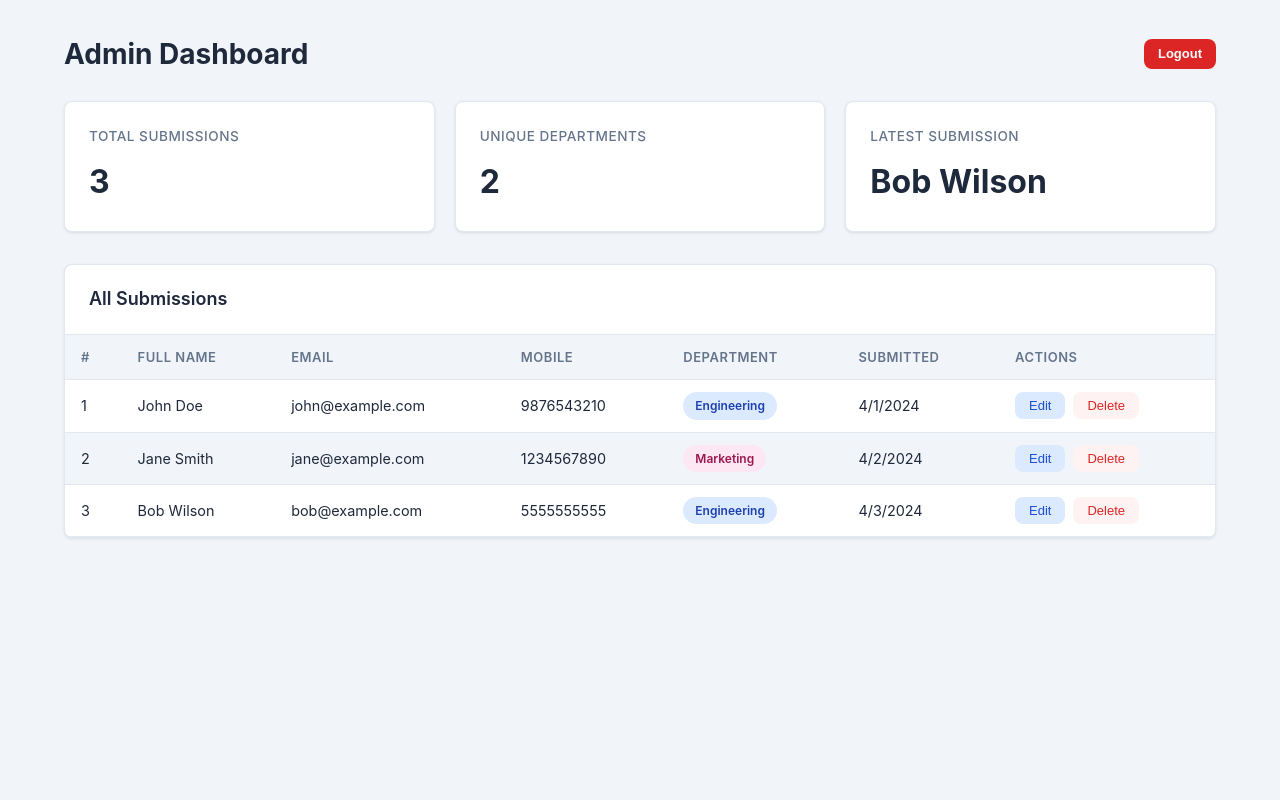
it: AdminDashboard › closing edit modal by clicking Cancel hides the modal
The width and height of the screenshot is (1280, 800).
Click the button "Edit" in the row of "John Doe" at (1040,406), box x1=1015 y1=392 x2=1065 y2=419
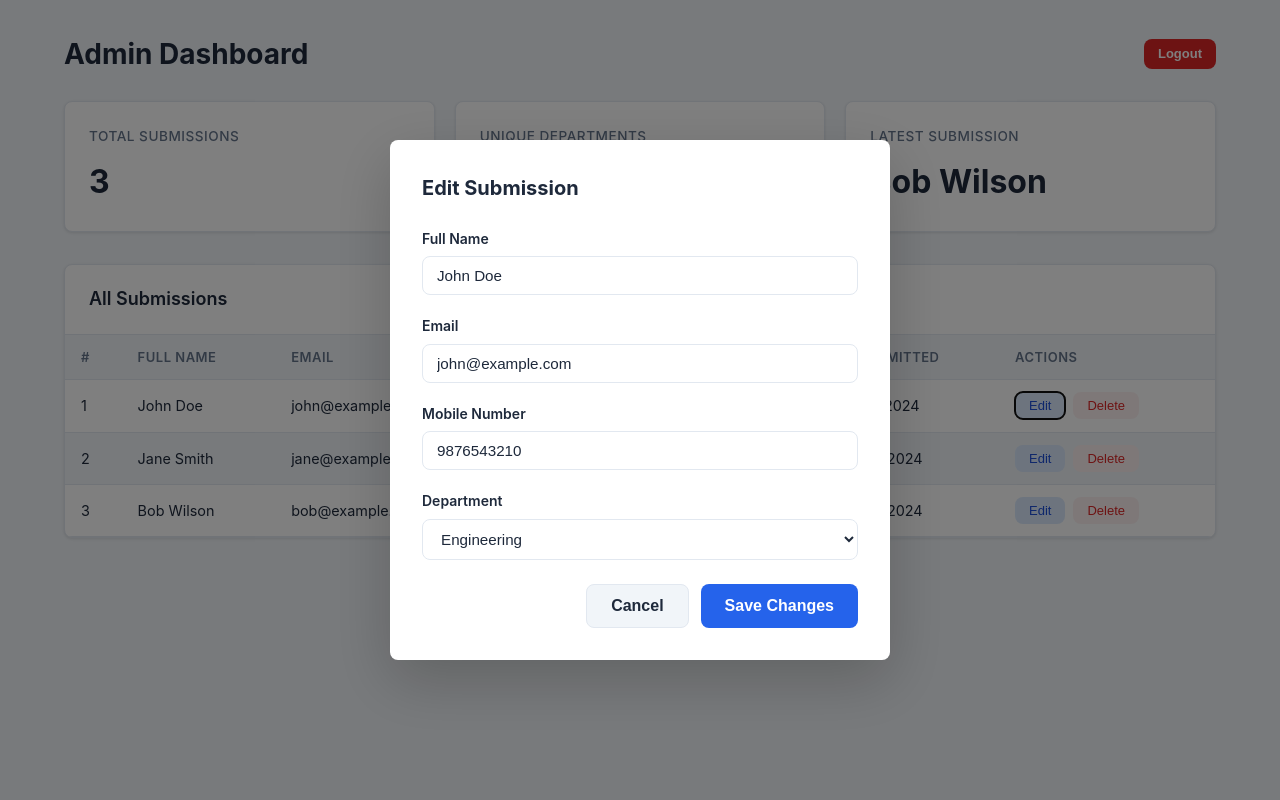
Check: the heading "Edit Submission" is shown, box x1=422 y1=176 x2=579 y2=200
Click the button "Cancel" at (637,606), box x1=586 y1=584 x2=689 y2=628
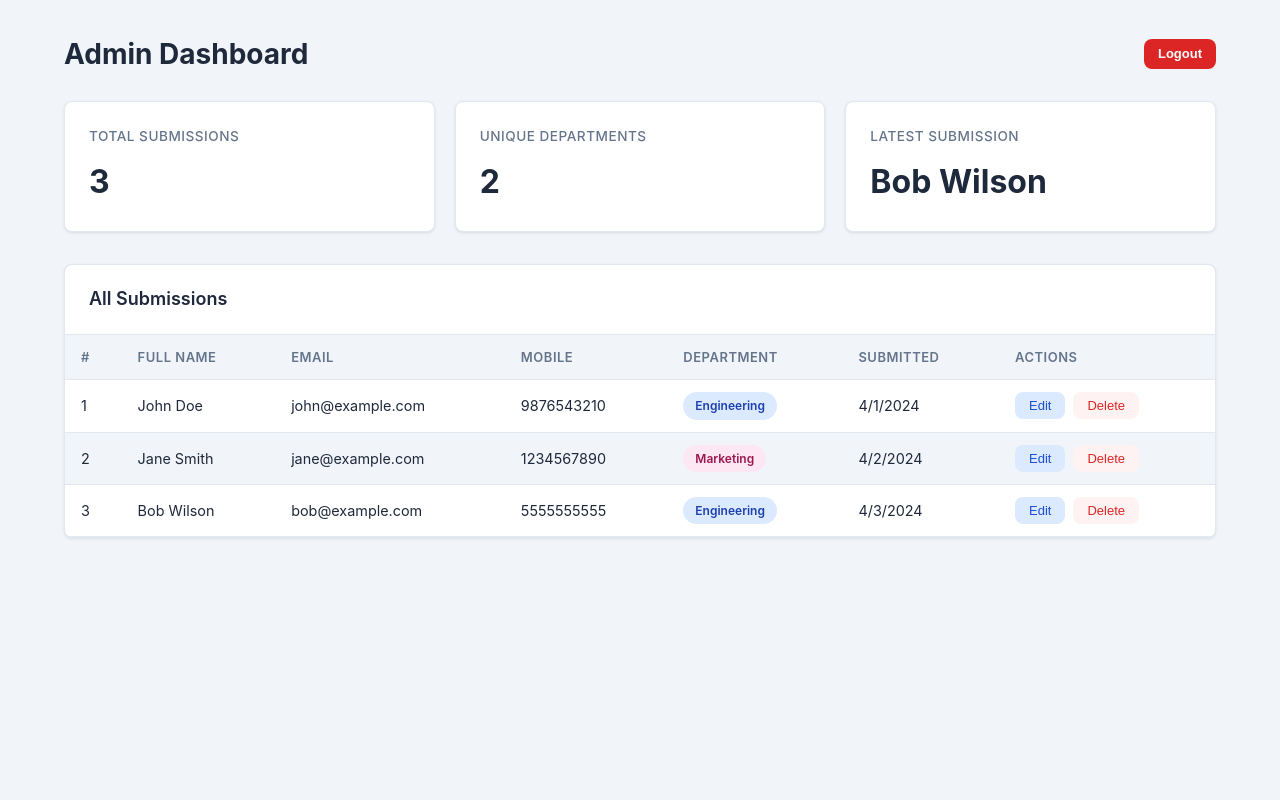
Check: the heading "Edit Submission" is gone
